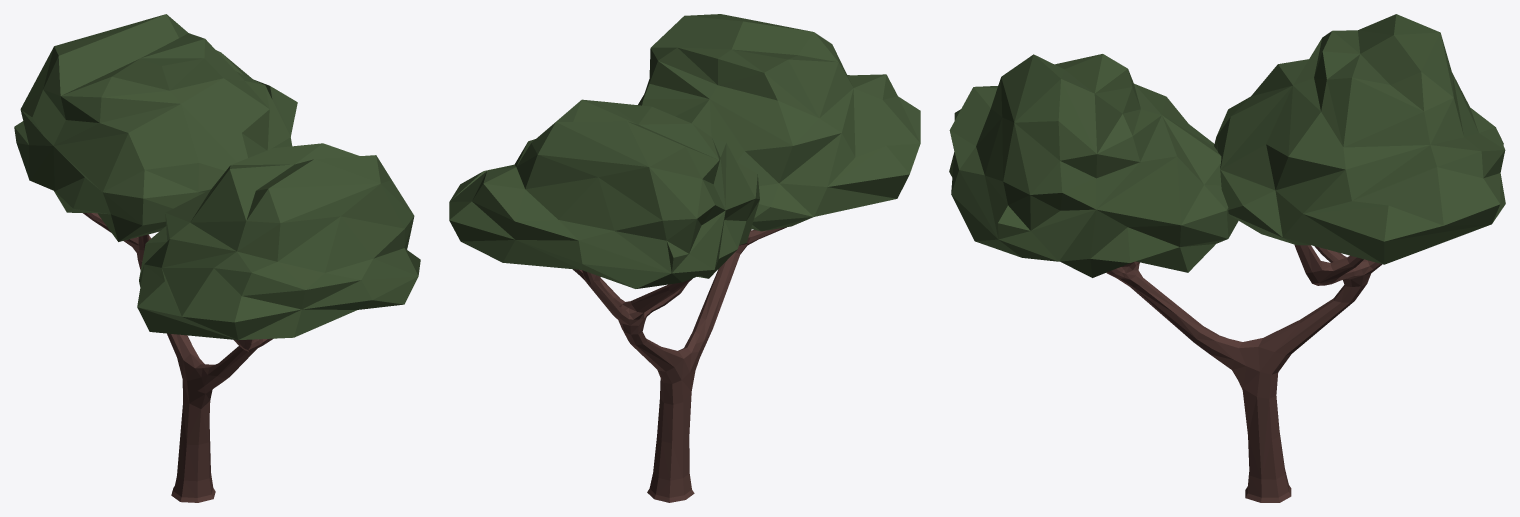
The model's file is CommonTree_1.glb.
3 renders of one model, left to right at view 1: azimuth 30°, elevation 25°; view 2: azimuth 150°, elevation 25°; view 3: azimuth 270°, elevation 25°, orthographic. The views are drawn at different scales.
Visible parts, largest first — view 1: CommonTree_1; view 2: CommonTree_1; view 3: CommonTree_1.
Part boxes in pixels (x1,y1,x2,y2): CommonTree_1: (14, 14, 420, 502); CommonTree_1: (449, 14, 920, 502); CommonTree_1: (949, 14, 1505, 502).
Bounding box in the file's own units: 1.89 × 2.48 × 2.77.
